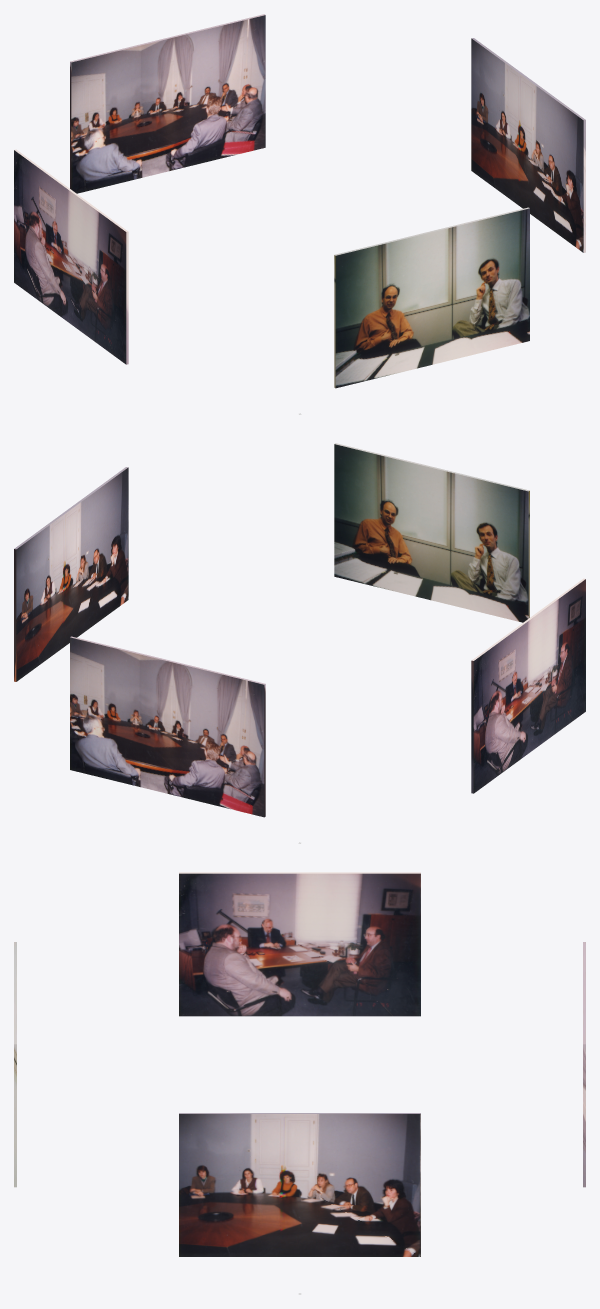
The model's file is bundle003.glb.
The picture shows the model from 3 angles, top to bottom: view 1: azimuth 30°, elevation 25°; view 2: azimuth 150°, elevation 25°; view 3: azimuth 270°, elevation 25°; orthographic projection. The views are drawn at different scales.
Visible parts, largest first — view 1: Board 004, Board 002, Board 003, Board 001; view 2: Board 002, Board 004, Board 003, Board 001; view 3: Board 003, Board 001, Board 002, Board 004.
Boxes of the visible parts, box(x1,y1,x2,y2) form: Board 004: box(334, 207, 529, 388); Board 002: box(70, 14, 265, 193); Board 003: box(14, 149, 128, 364); Board 001: box(471, 38, 585, 252); Board 002: box(70, 636, 265, 817); Board 004: box(334, 443, 529, 622); Board 003: box(471, 578, 585, 793); Board 001: box(14, 467, 128, 681); Board 003: box(179, 872, 420, 1016); Board 001: box(179, 1113, 420, 1256); Board 002: box(583, 942, 585, 1187); Board 004: box(14, 942, 16, 1187).
Bounding box in the file's own units: 4.02 × 2.33 × 4.02.
Materials: 4 (4 with a texture image).
